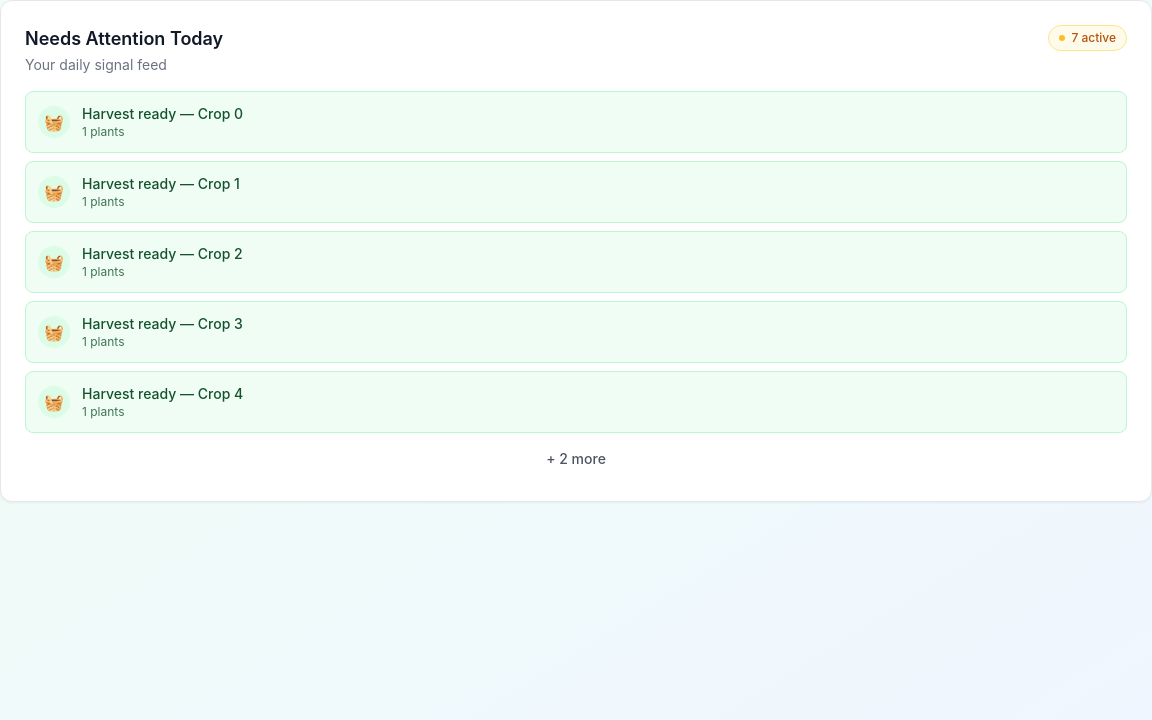
Scenario: NeedsAttentionPanel › caps visible rows at 5 with a "+ N more" toggle that expands
This screenshot has width=1152, height=720.
Check: the text "Harvest ready — Crop 0" is shown, box [82,105,243,122]
Check: the text "Harvest ready — Crop 4" is shown, box [82,385,243,402]
// Click expand.
Click the button "+ 2 more". click: (576, 459)
box: [25,441,1127,477]
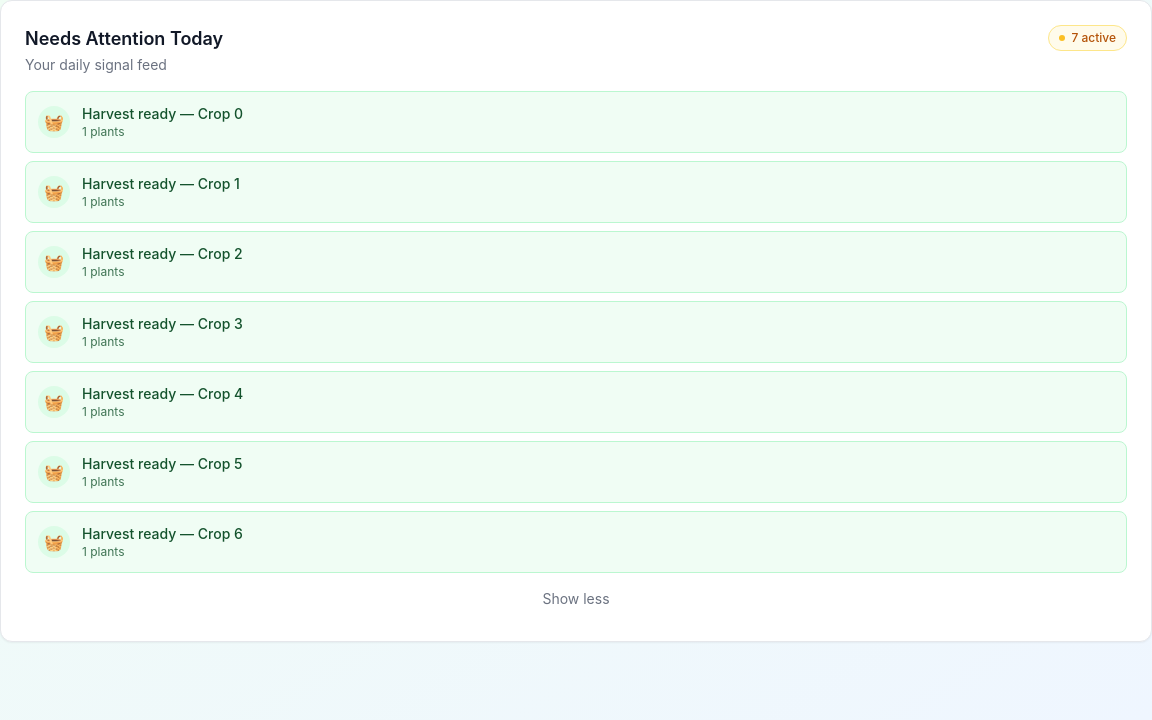
Check: the text "Harvest ready — Crop 5" is shown, box [82,455,242,472]
Check: the text "Harvest ready — Crop 6" is shown, box [82,525,243,542]
Check: the button "Show less" is shown, box [25,581,1127,617]
